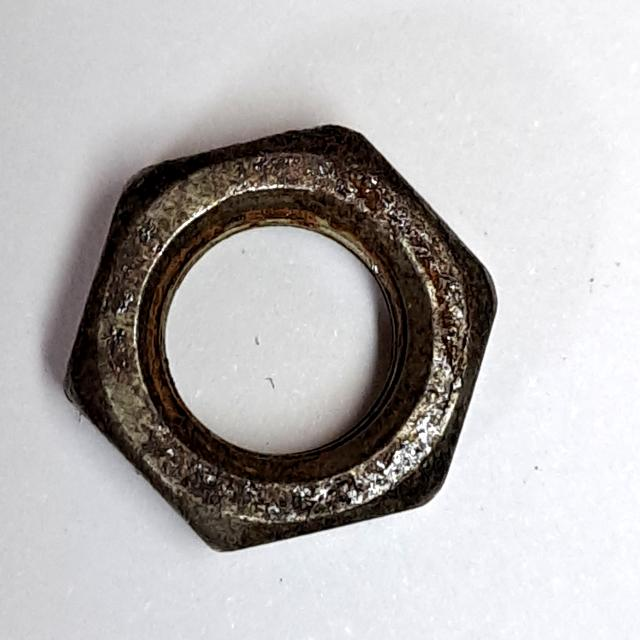Rust: (44, 113, 511, 565)
